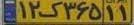character: (39, 1, 63, 23), (76, 1, 89, 24), (89, 1, 102, 24), (16, 1, 28, 23), (63, 1, 76, 21), (117, 3, 129, 23), (28, 1, 39, 22), (105, 4, 115, 23)
